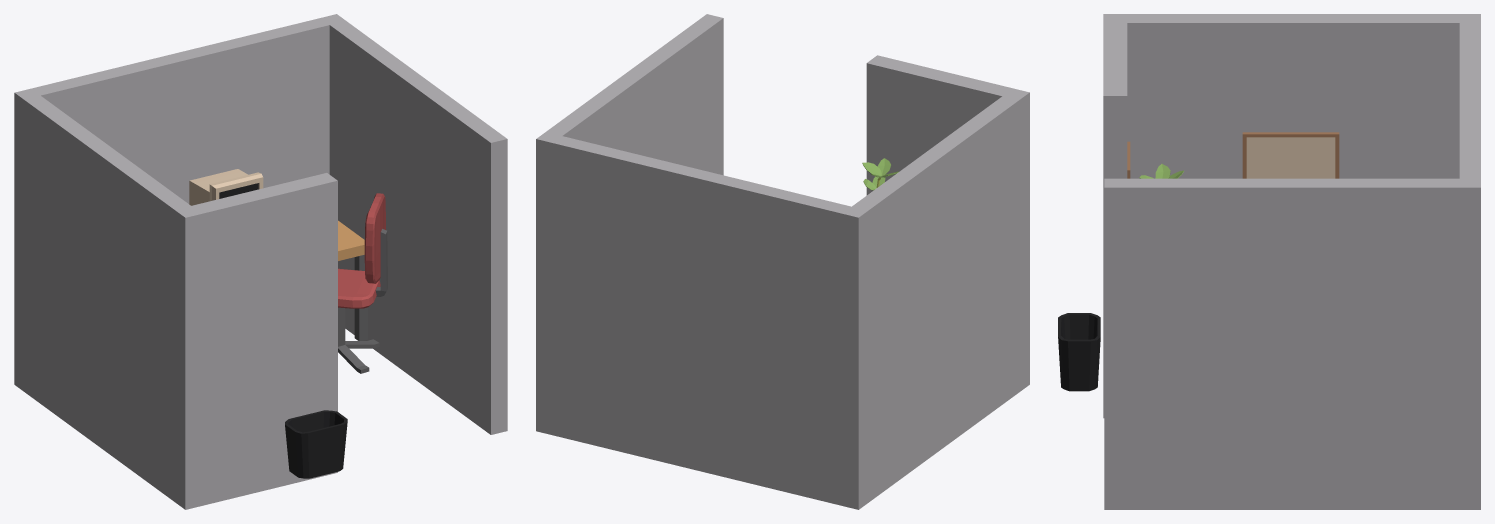
File: cubicle.glb
3 renders of one model, left to right at view 1: azimuth 30°, elevation 25°; view 2: azimuth 150°, elevation 25°; view 3: azimuth 270°, elevation 25°, orthographic. The views are drawn at different scales.
Parts seen in each view (by area): view 1: Cubicle.012; view 2: Cubicle.012; view 3: Cubicle.012.
Boxes of the visible parts, left/top/right/bottom form: Cubicle.012: left=14, top=14, right=507, bottom=509; Cubicle.012: left=536, top=14, right=1029, bottom=509; Cubicle.012: left=1058, top=14, right=1480, bottom=509.
Bounding box in the file's own units: 3.05 × 2.64 × 3.13.
Materials: 1 (1 with a texture image).
